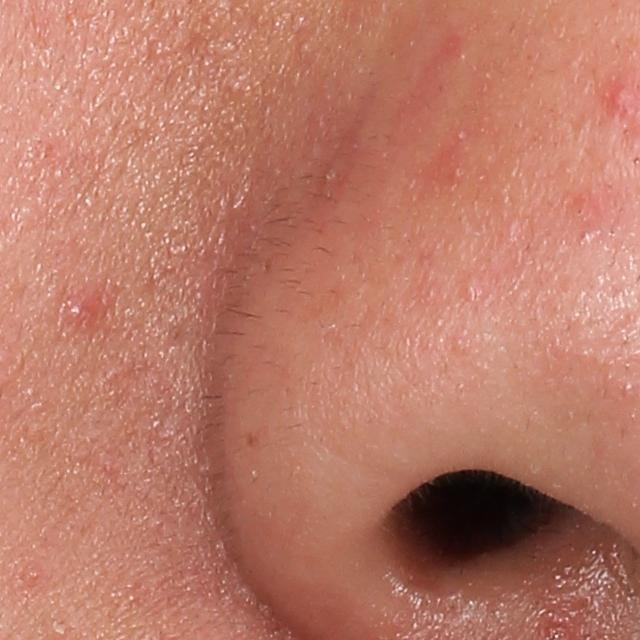comedo: (456, 279, 482, 301)
nevus: (245, 429, 258, 449)
papule: (54, 282, 103, 337)
